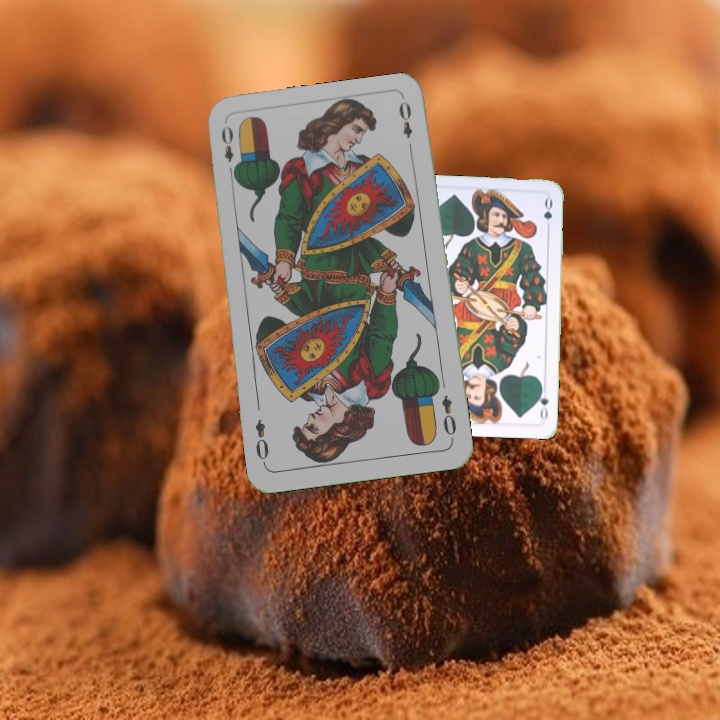EO: (217, 121, 240, 179), (438, 391, 459, 443)
GO: (534, 382, 551, 423)
